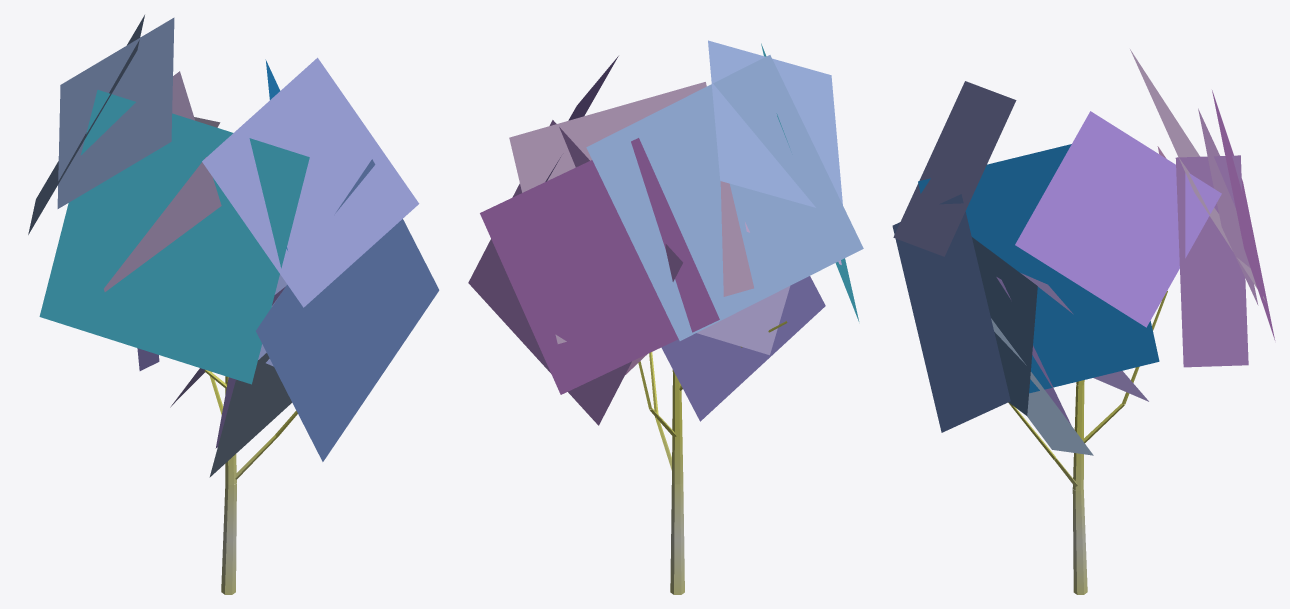
Rendered from tree_lime_0.glb.
The picture shows the model from 3 angles, left to right: view 1: azimuth 30°, elevation 25°; view 2: azimuth 150°, elevation 25°; view 3: azimuth 270°, elevation 25°; orthographic projection. The views are drawn at different scales.
Parts seen in each view (by area): view 1: tree_lime_0; view 2: tree_lime_0; view 3: tree_lime_0.
Part boxes in pixels (x1,y1,x2,y2): tree_lime_0: (28,15,439,594); tree_lime_0: (468,40,863,594); tree_lime_0: (892,49,1275,594).
Size of the model in its own units: 8.28 by 12.38 by 7.86.
